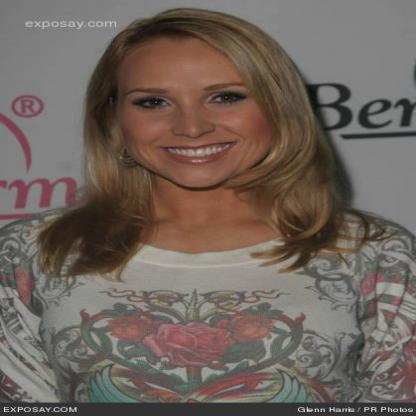long-hair: (55, 188, 367, 223)
